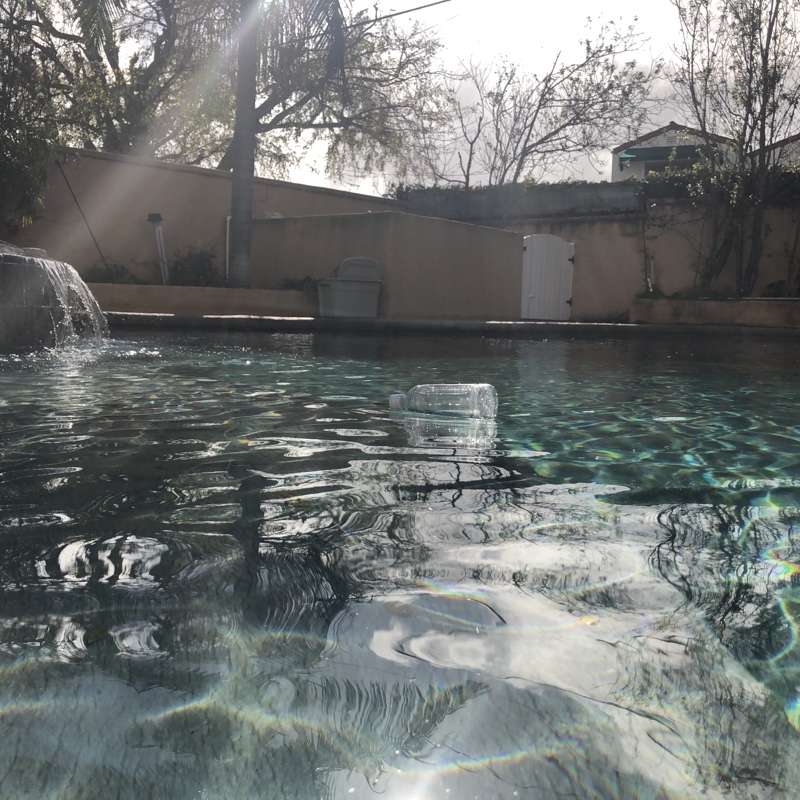Plastic Bottle: (383, 377, 504, 426)
